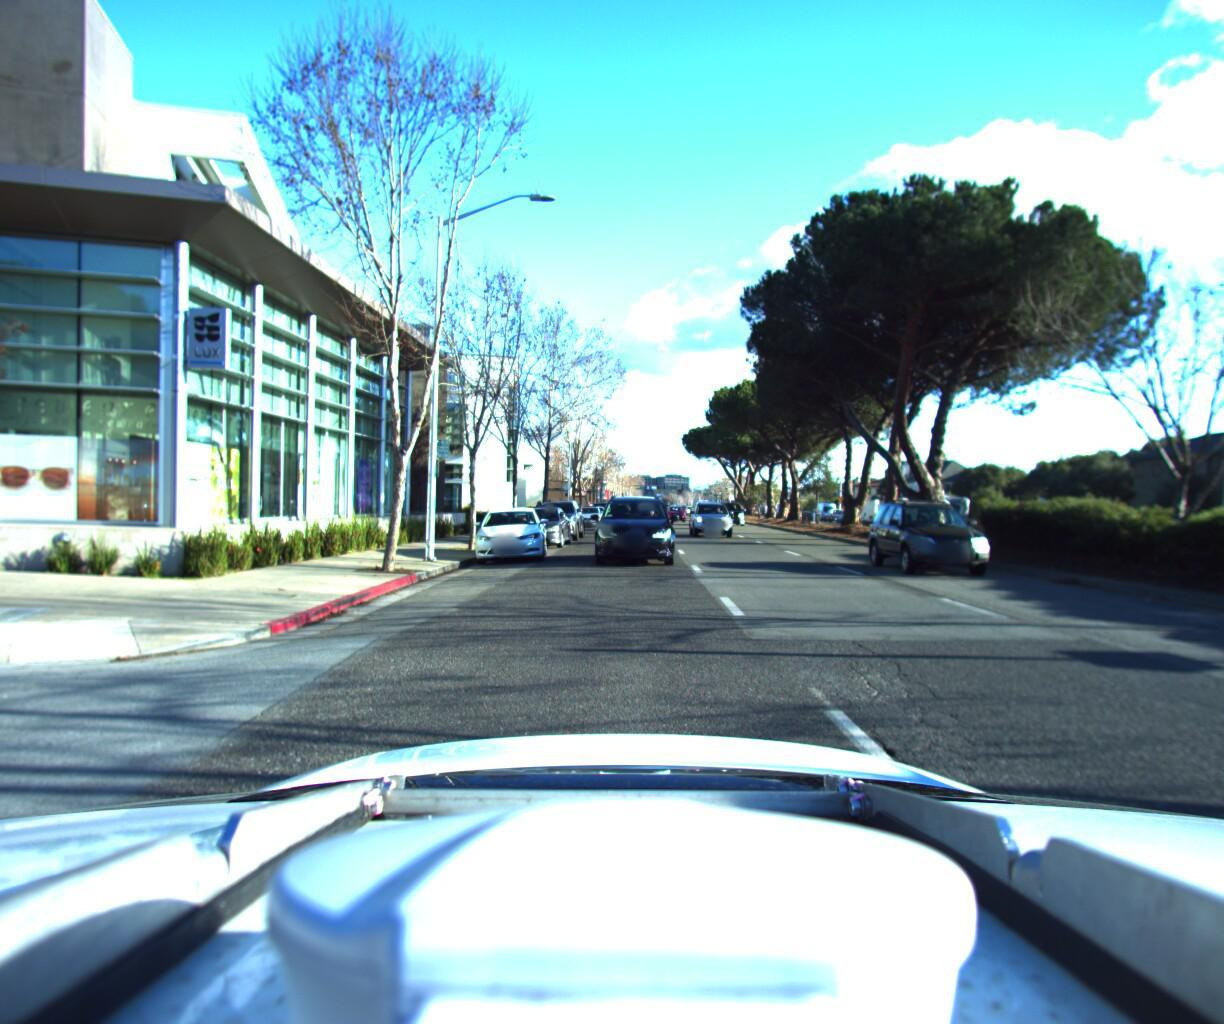car: (874, 480, 1038, 581), (589, 484, 673, 567), (467, 499, 548, 563), (507, 499, 574, 544), (529, 492, 586, 538), (691, 493, 742, 535), (715, 494, 752, 521), (570, 498, 606, 523), (664, 495, 687, 515)
other_vehicle: (902, 487, 973, 527)
